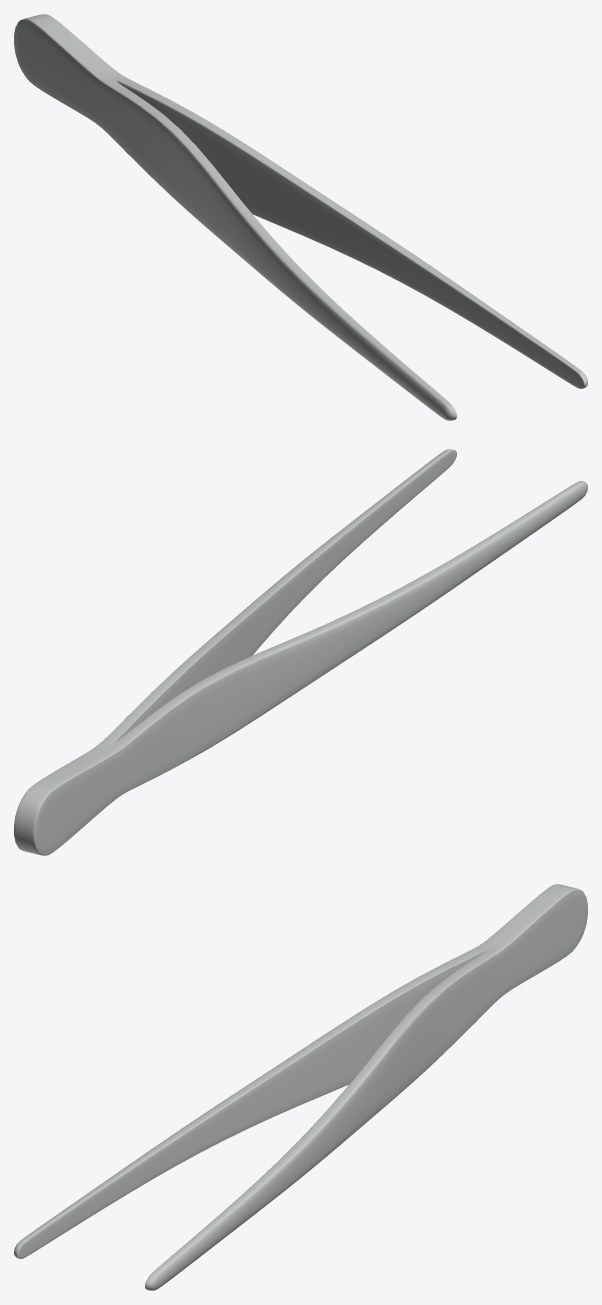
Rendered from Kep.fbx.
3 renders of one model, top to bottom at view 1: azimuth 30°, elevation 25°; view 2: azimuth 150°, elevation 25°; view 3: azimuth 330°, elevation 25°, orthographic.
Visible parts, largest first — view 1: Kep; view 2: Kep; view 3: Kep.
Part boxes in pixels (box(x1,y1,x2,y2)): Kep: box(14, 14, 587, 420); Kep: box(14, 449, 587, 855); Kep: box(14, 884, 587, 1290).
Bounding box in the file's own units: 2.51 × 1.11 × 15.25.
1 material, 1 textured.
